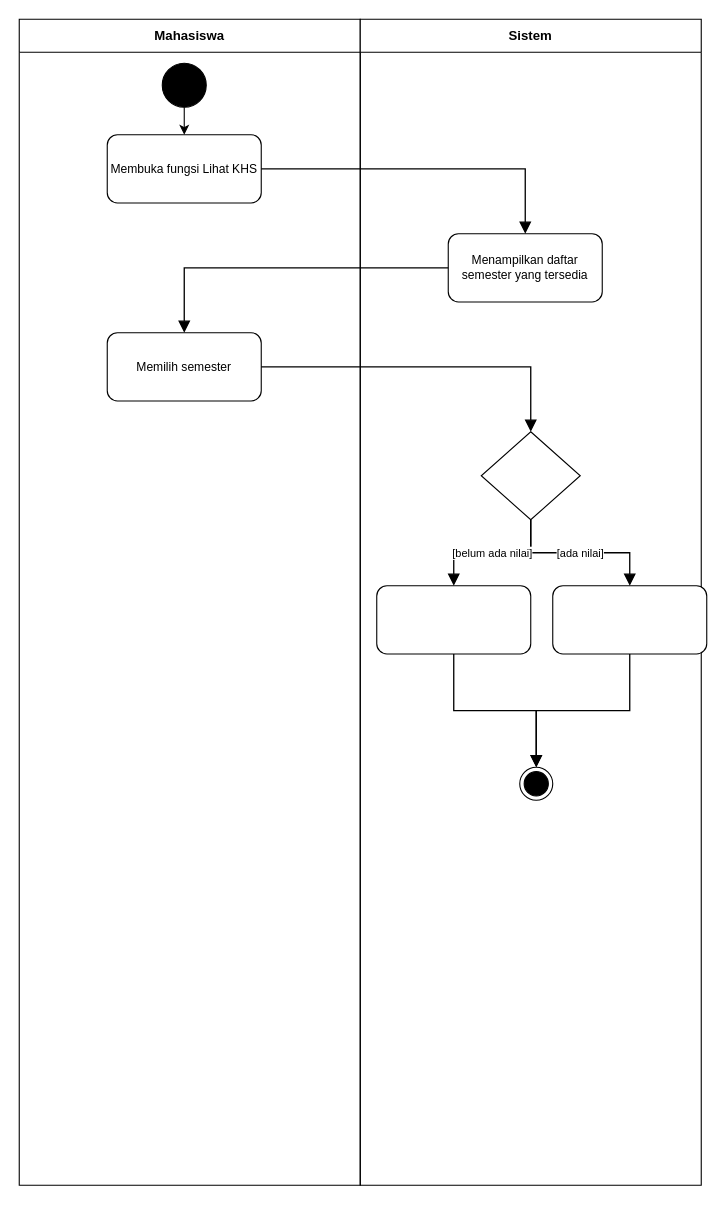
This 726x1205 diagram has some shape labels left out. Here are the shapes that lost their labels. From the top down, the centre of each, then its label:
At [530,475]: "Ada nilai yang dipublikasikan?".
At [453,619]: "Menampilkan pesan belum ada nilai yang dipublikasikan".
At [629,619]: "Menampilkan KHS untuk semester tersebut".
